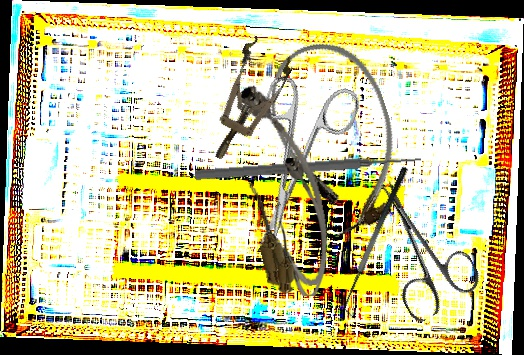Cannula: (254, 28, 420, 245), (226, 75, 339, 295), (275, 157, 329, 297)
Iris Scissors: (219, 65, 364, 262), (348, 164, 487, 326)
Pusher: (194, 152, 422, 183)
Spatula Surgical: (334, 165, 421, 319)
Speculum: (193, 33, 299, 170)
